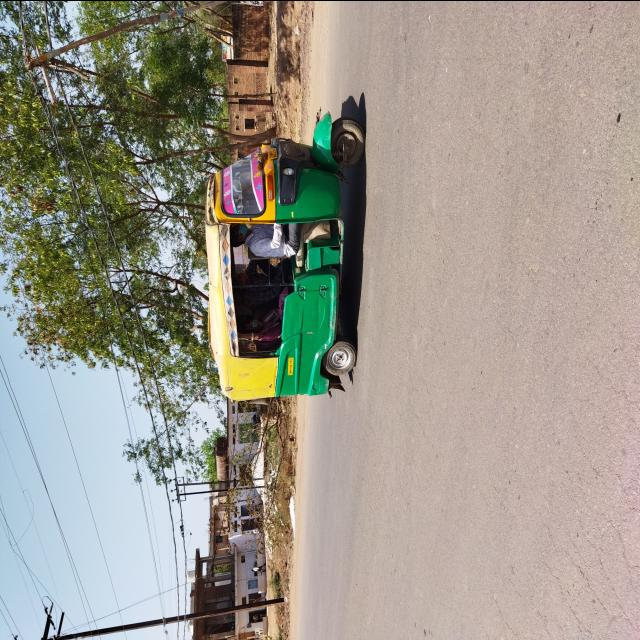Autorickshaw: (201, 111, 369, 413)
